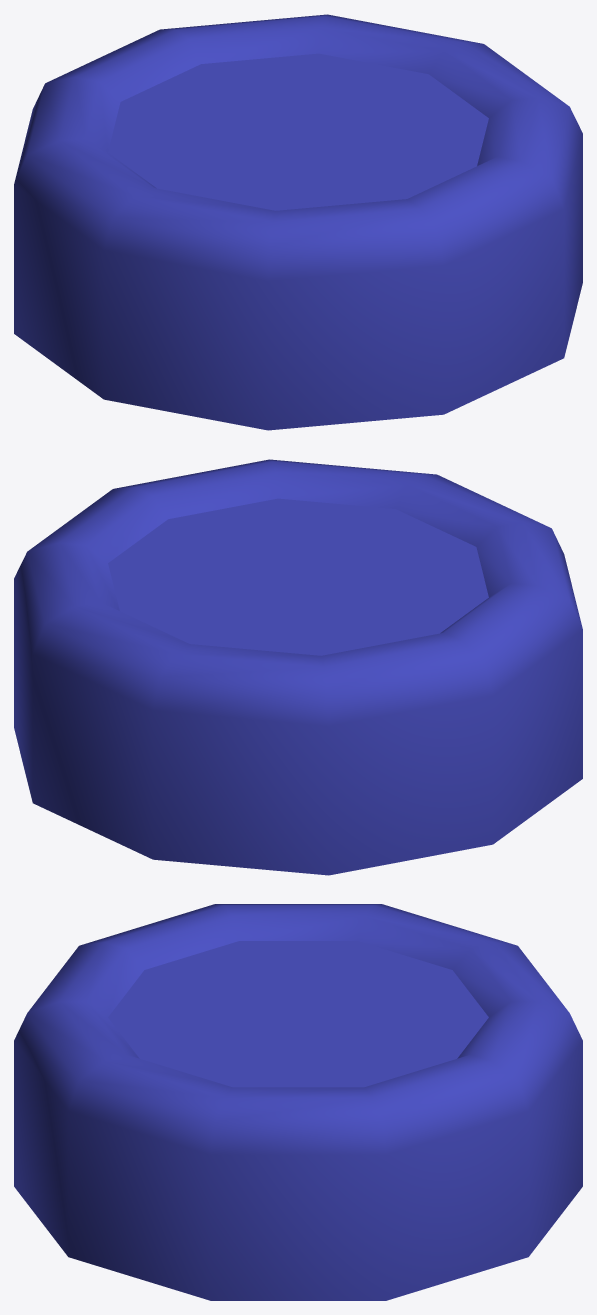
The model's file is Kapak.fbx.
The picture shows the model from 3 angles, top to bottom: view 1: azimuth 30°, elevation 25°; view 2: azimuth 150°, elevation 25°; view 3: azimuth 270°, elevation 25°; orthographic projection. The views are drawn at different scales.
Parts seen in each view (by area): view 1: Kapak; view 2: Kapak; view 3: Kapak.
Part boxes in pixels (x1,y1,x2,y2): Kapak: (14,14,582,430); Kapak: (14,459,582,875); Kapak: (14,904,582,1300).
Bounding box in the file's own units: 190 × 71.65 × 200.
